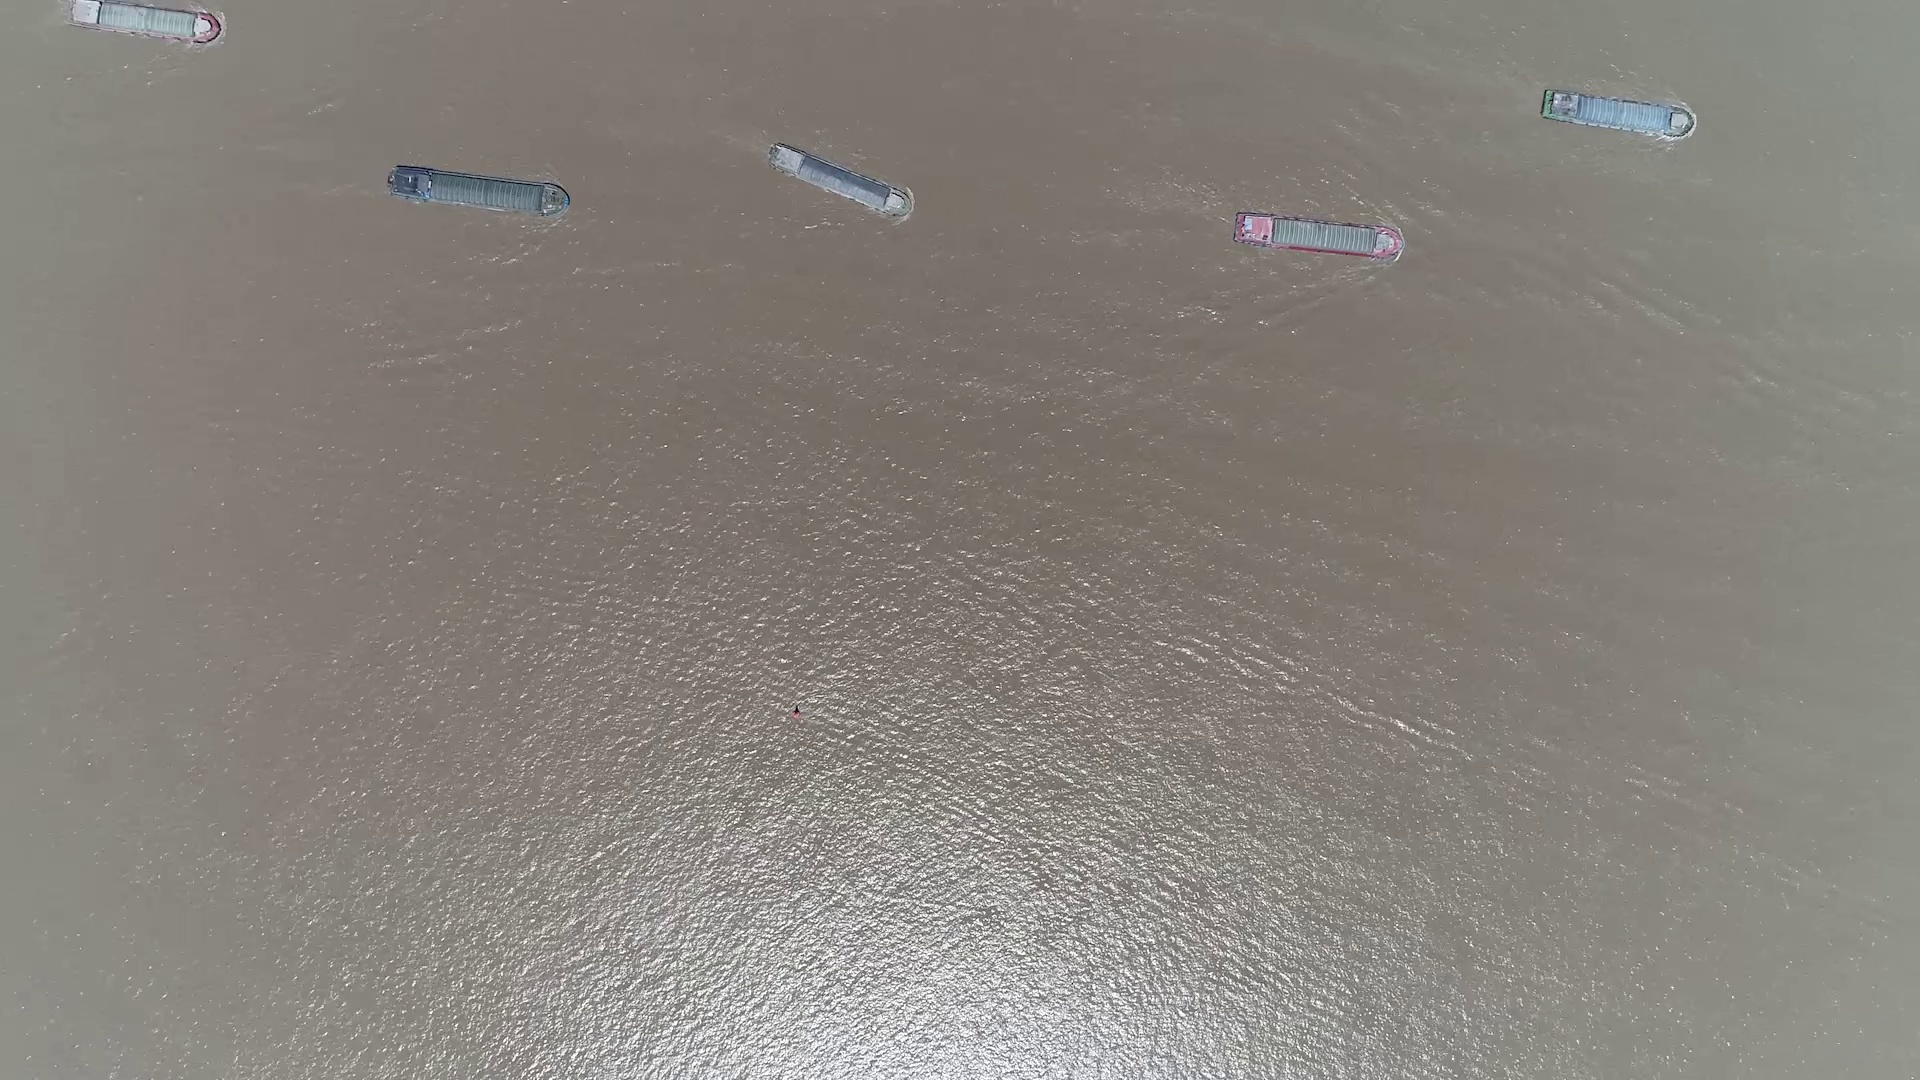ship: (767, 144, 913, 218), (386, 165, 570, 218), (1232, 214, 1403, 258), (1539, 92, 1692, 136), (69, 0, 222, 41)
